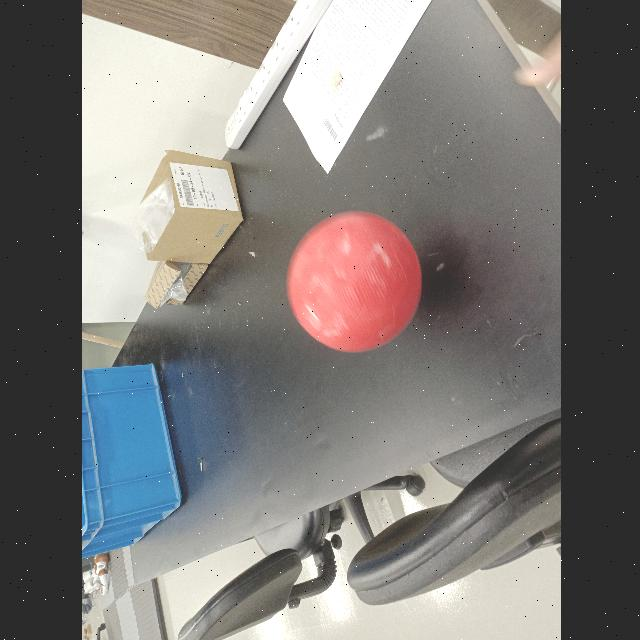R: (280, 216, 430, 346)
